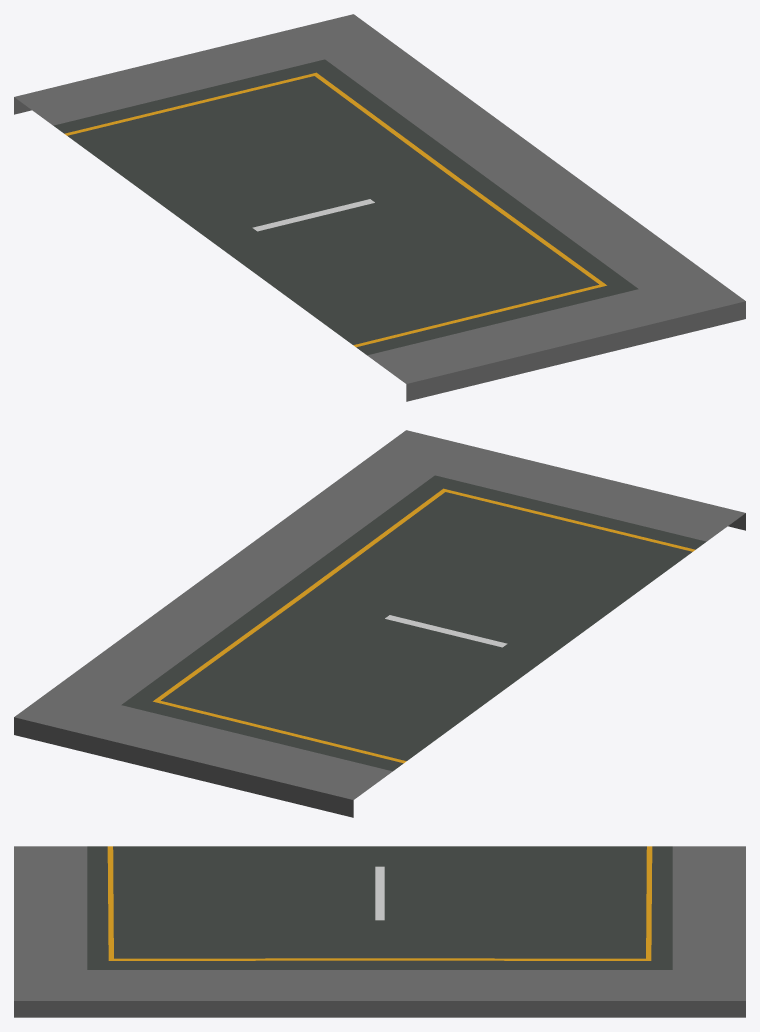
File: SM_Road_5.FBX
The picture shows the model from 3 angles, top to bottom: view 1: azimuth 30°, elevation 25°; view 2: azimuth 150°, elevation 25°; view 3: azimuth 270°, elevation 25°; orthographic projection. The views are drawn at different scales.
Parts seen in each view (by area): view 1: SM_Road_5; view 2: SM_Road_5; view 3: SM_Road_5.
Boxes of the visible parts, box(x1,y1,x2,y2) form: SM_Road_5: box(14, 14, 745, 401); SM_Road_5: box(14, 430, 745, 817); SM_Road_5: box(14, 846, 745, 1017).
Size of what is drawn, in the model's own units: 500 by 1000 by 25.
